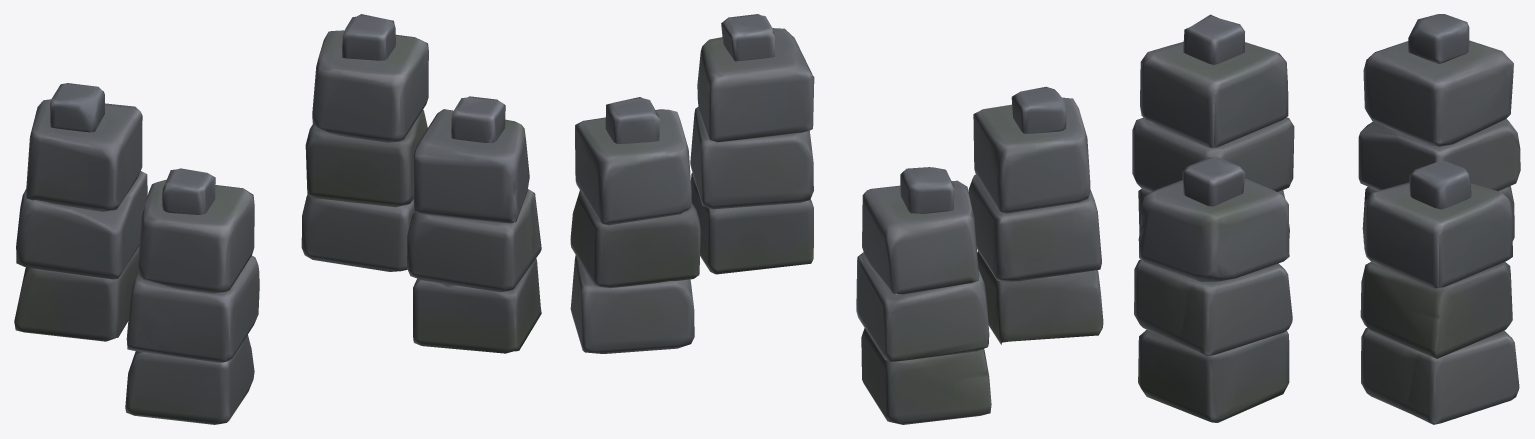
File: SM_Bridge_Middle_01.glb
3 views of the same model, side by side, from view 1: azimuth 30°, elevation 25°; view 2: azimuth 150°, elevation 25°; view 3: azimuth 270°, elevation 25° (orthographic).
Visible parts, largest first — view 1: SM_Bridge_Middle_01; view 2: SM_Bridge_Middle_01; view 3: SM_Bridge_Middle_01.
Part boxes in pixels (box(x1,y1,x2,y2)): SM_Bridge_Middle_01: box(14, 14, 541, 424); SM_Bridge_Middle_01: box(570, 14, 1103, 424); SM_Bridge_Middle_01: box(1132, 14, 1520, 424).
Size of the model in its own units: 4.36 by 2.27 by 3.45.
Materials: 1 (1 with a texture image).
